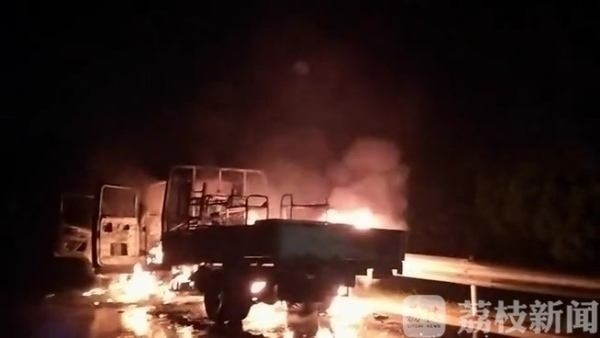fire: (90, 240, 197, 304), (318, 203, 389, 231)
